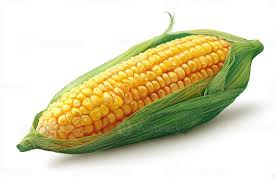milho: (31, 35, 257, 146)
